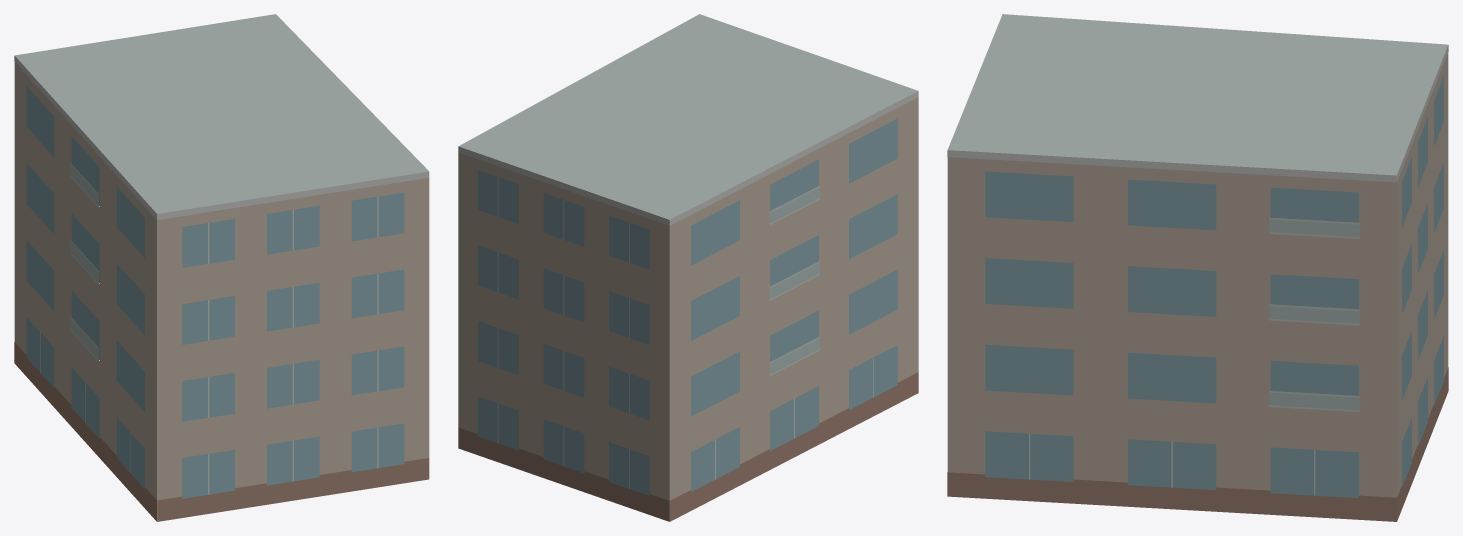
Rendered from survey-upis-32677987.glb.
3 views of the same model, side by side, from view 1: azimuth 30°, elevation 25°; view 2: azimuth 150°, elevation 25°; view 3: azimuth 270°, elevation 25° (orthographic). The views are drawn at different scales.
Parts seen in each view (by area): view 1: survey-upis-32677987.tmp; view 2: survey-upis-32677987.tmp; view 3: survey-upis-32677987.tmp.
Part boxes in pixels (box(x1,y1,x2,y2)): survey-upis-32677987.tmp: box(14, 14, 429, 521); survey-upis-32677987.tmp: box(458, 14, 918, 521); survey-upis-32677987.tmp: box(947, 14, 1448, 521).
Size of the model in its own units: 12.21 by 12.2 by 16.
